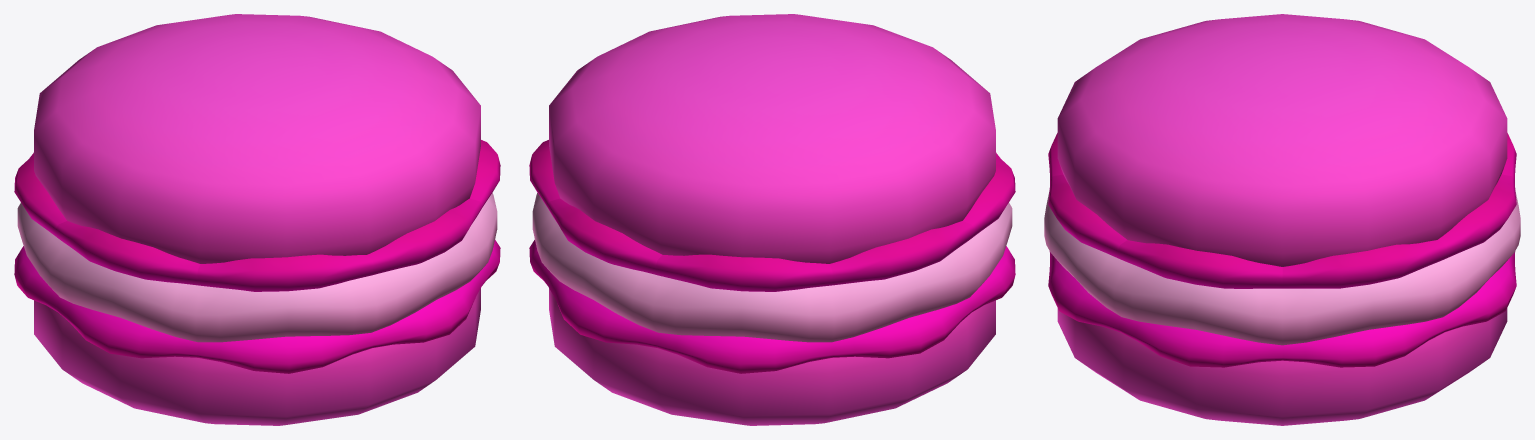
File: Macaron_V1_00.fbx
3 views of the same model, side by side, from view 1: azimuth 30°, elevation 25°; view 2: azimuth 150°, elevation 25°; view 3: azimuth 270°, elevation 25° (orthographic).
Visible parts, largest first — view 1: Macaron_V1_00; view 2: Macaron_V1_00; view 3: Macaron_V1_00.
Part boxes in pixels (x1,y1,x2,y2): Macaron_V1_00: (14, 14, 500, 425); Macaron_V1_00: (529, 14, 1015, 425); Macaron_V1_00: (1044, 14, 1520, 425).
Size of the model in its own units: 27.03 by 19.94 by 27.03.
